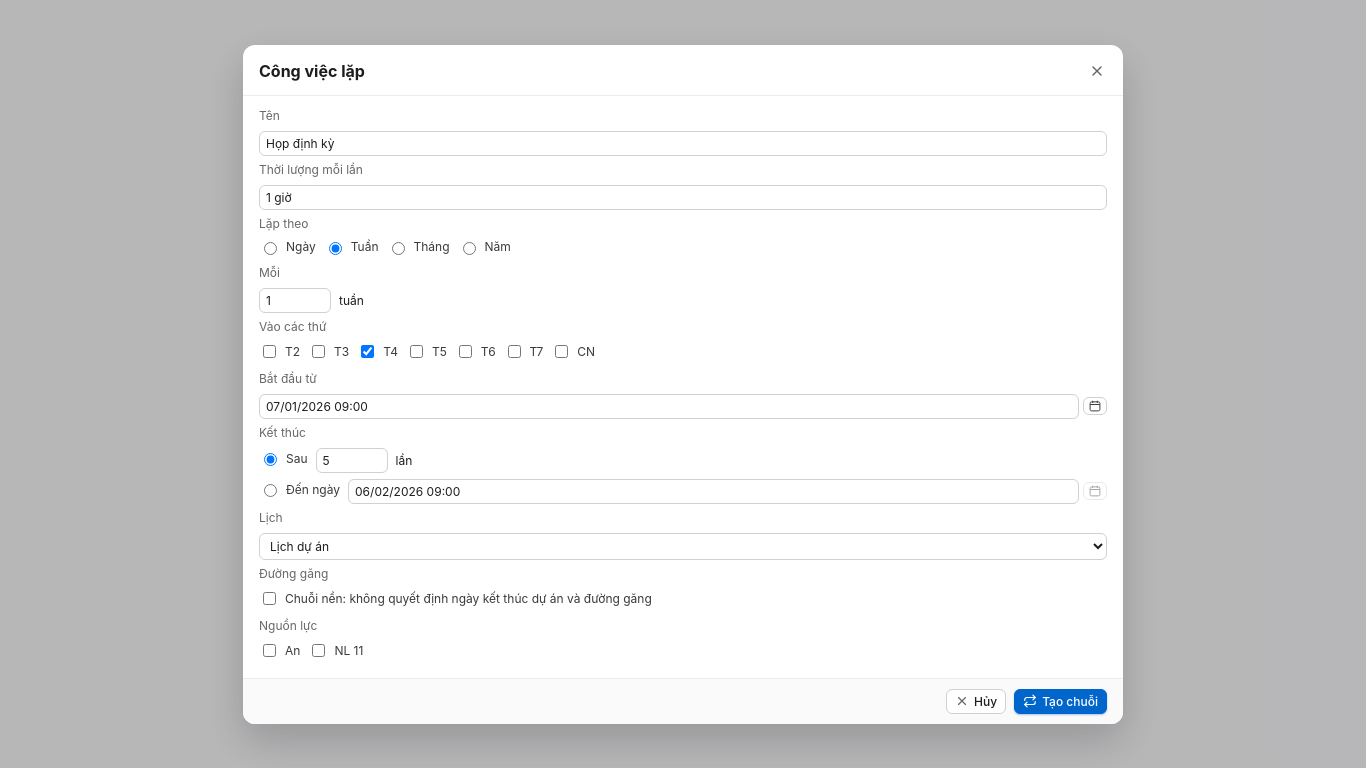
it: RecurringDialog validation › Chu kỳ lặp = 0 shows “Chu kỳ lặp phải từ 1 trở lên”
The width and height of the screenshot is (1366, 768).
Replace the text in the field named "Chu kỳ lặp" with "0". click: (295, 300)
box: [259,288,331,312]
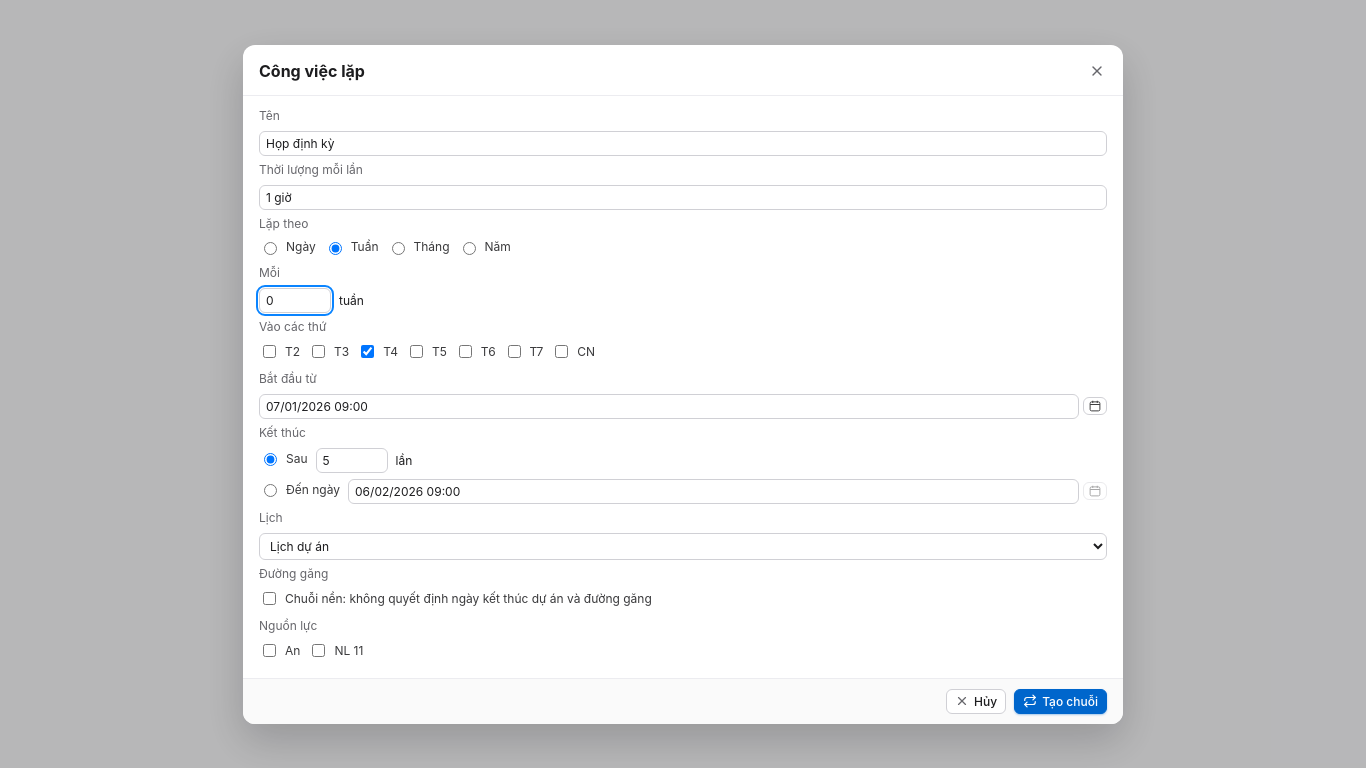
Click the button "Tạo chuỗi". click: (1061, 701)
box: [1014,688,1107,714]
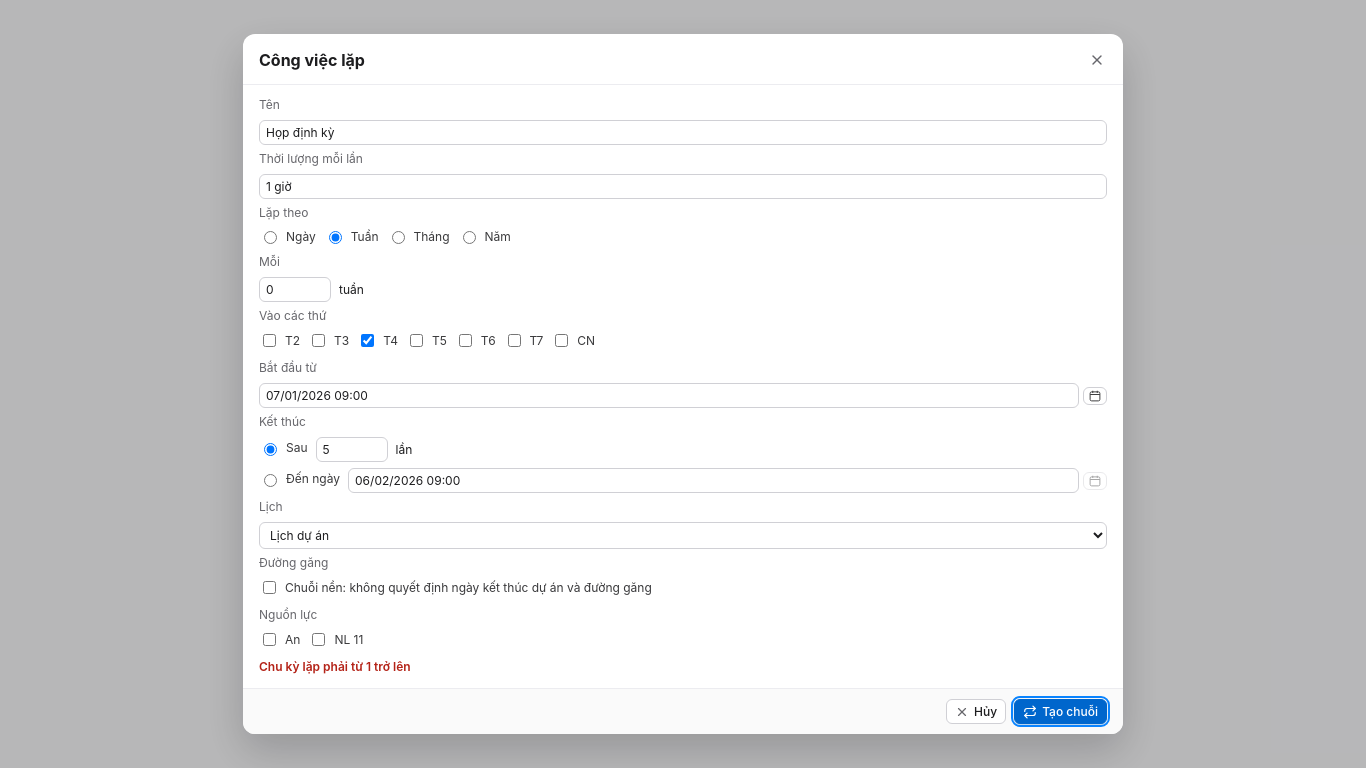
Expected: the text "Chu kỳ lặp phải từ 1 trở lên" is shown, [259,659,411,674]
